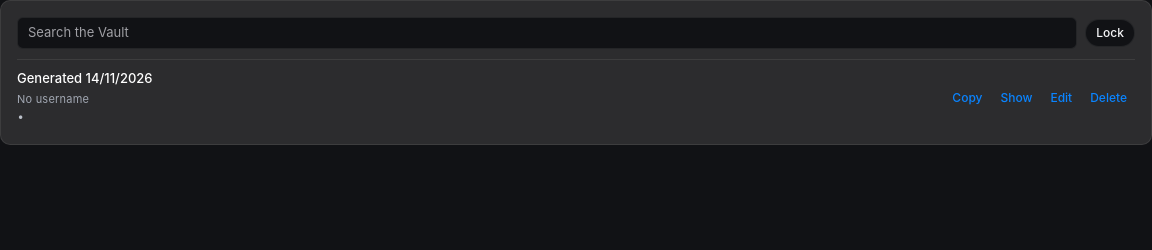
VaultList › renames an entry saved by the generator
Click the button "Edit" at (1061, 98), box [1042,84,1080,112]
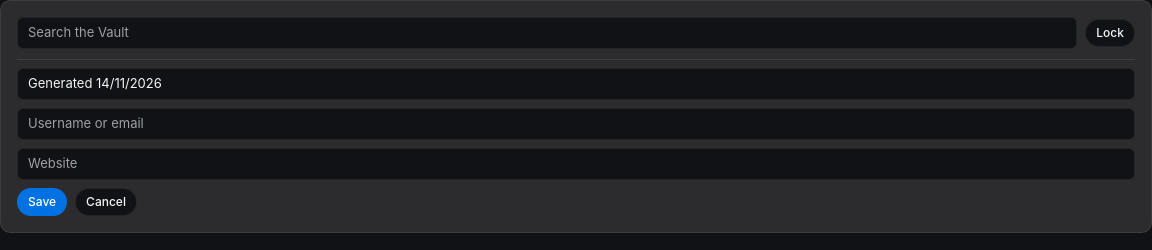
Replace the text in the field named "Name" with "Bank" at (576, 84), box [17,68,1135,100]
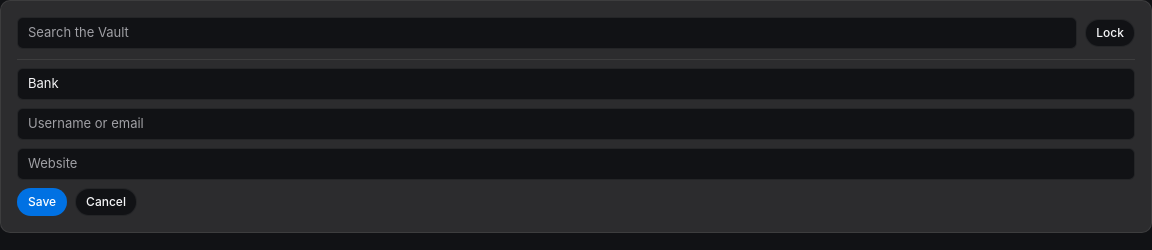
Click the button "Save" at (42, 202), box [17,188,67,216]
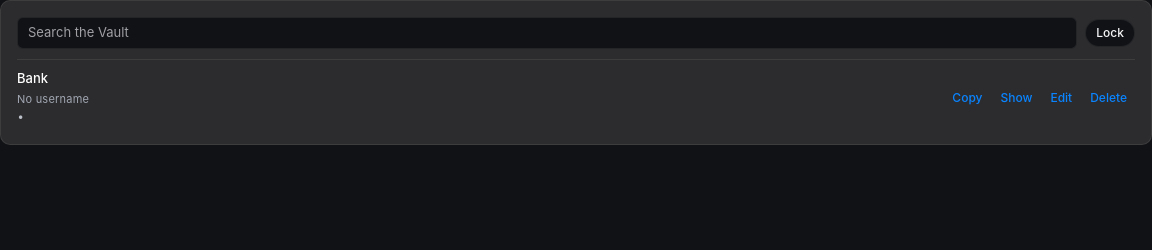
Result: the text "Bank" is shown at [17,70,48,86]
